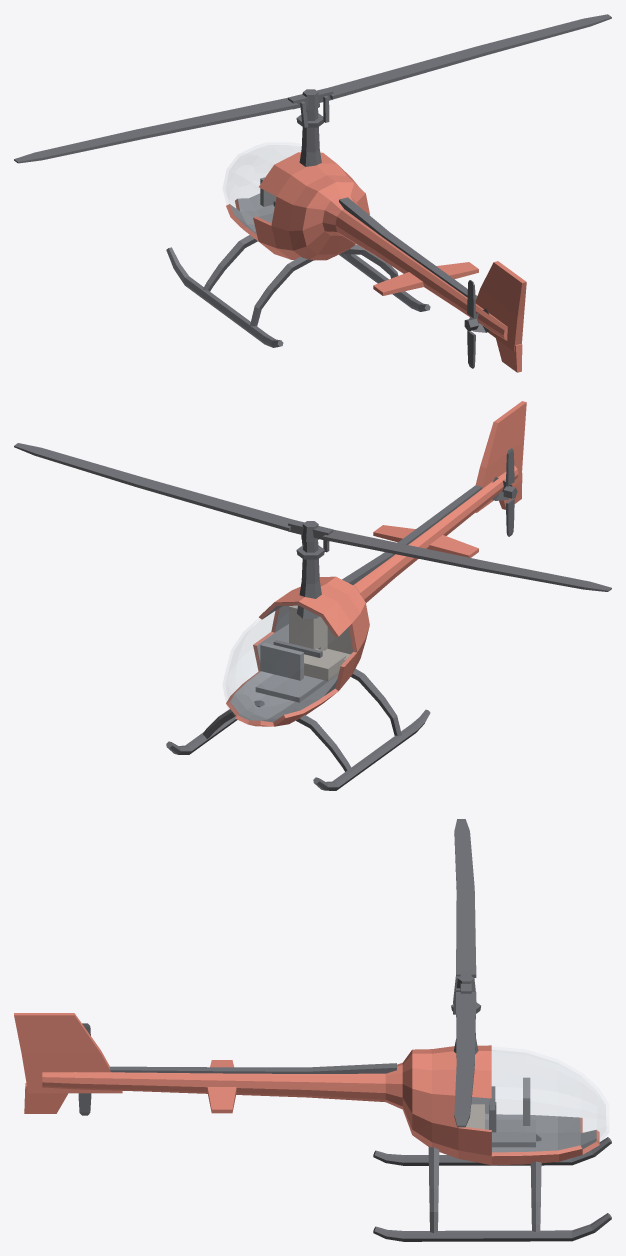
File: helicopter_lowpoly.glb
3 views of the same model, one above another, from view 1: azimuth 30°, elevation 25°; view 2: azimuth 150°, elevation 25°; view 3: azimuth 270°, elevation 25° (orthographic). The views are drawn at different scales.
Visible parts, largest first — view 1: Body, MainRotor, Canopy, TailRotor; view 2: Body, MainRotor, Canopy, TailRotor; view 3: Body, MainRotor, Canopy.
Boxes of the visible parts, box(x1,y1,x2,y2) form: Body: box(166, 108, 526, 372); MainRotor: box(14, 14, 611, 163); Canopy: box(226, 145, 300, 209); TailRotor: box(464, 280, 478, 368); Body: box(166, 401, 526, 790); MainRotor: box(14, 443, 611, 591); Canopy: box(226, 609, 278, 714); TailRotor: box(503, 448, 517, 536); Body: box(14, 1013, 611, 1241); MainRotor: box(451, 819, 480, 1127); Canopy: box(492, 1050, 605, 1141).
Bounding box in the file's own units: 7.67 × 2.69 × 6.32.
